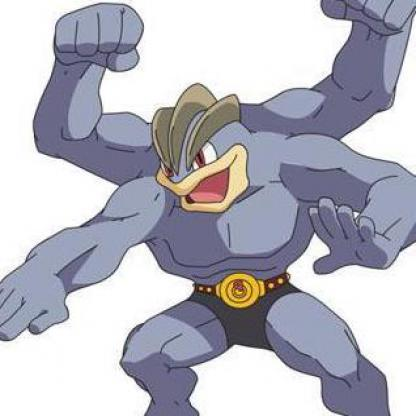Machamp: (1, 1, 416, 416)
